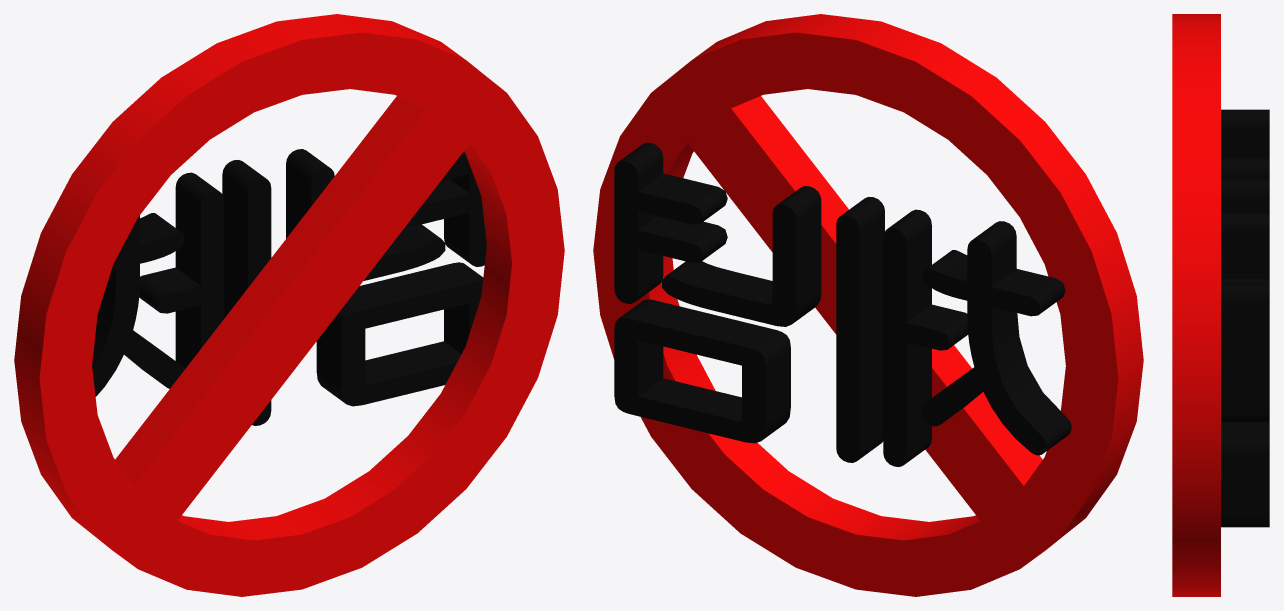
File: #02_Obj_StopMark_Text.FBX
The picture shows the model from 3 angles, left to right: view 1: azimuth 30°, elevation 25°; view 2: azimuth 150°, elevation 25°; view 3: azimuth 270°, elevation 25°; orthographic projection. The views are drawn at different scales.
Parts seen in each view (by area): view 1: Stop001, Text023; view 2: Stop001, Text023; view 3: Stop001, Text023.
Part boxes in pixels (left/top/right/bottom): Stop001: left=14, top=14, right=564, bottom=596; Text023: left=92, top=149, right=486, bottom=425; Stop001: left=593, top=14, right=1143, bottom=596; Text023: left=614, top=142, right=1071, bottom=466; Stop001: left=1172, top=14, right=1220, bottom=596; Text023: left=1221, top=109, right=1269, bottom=527.
Bounding box in the file's own units: 600 × 100 × 600.
